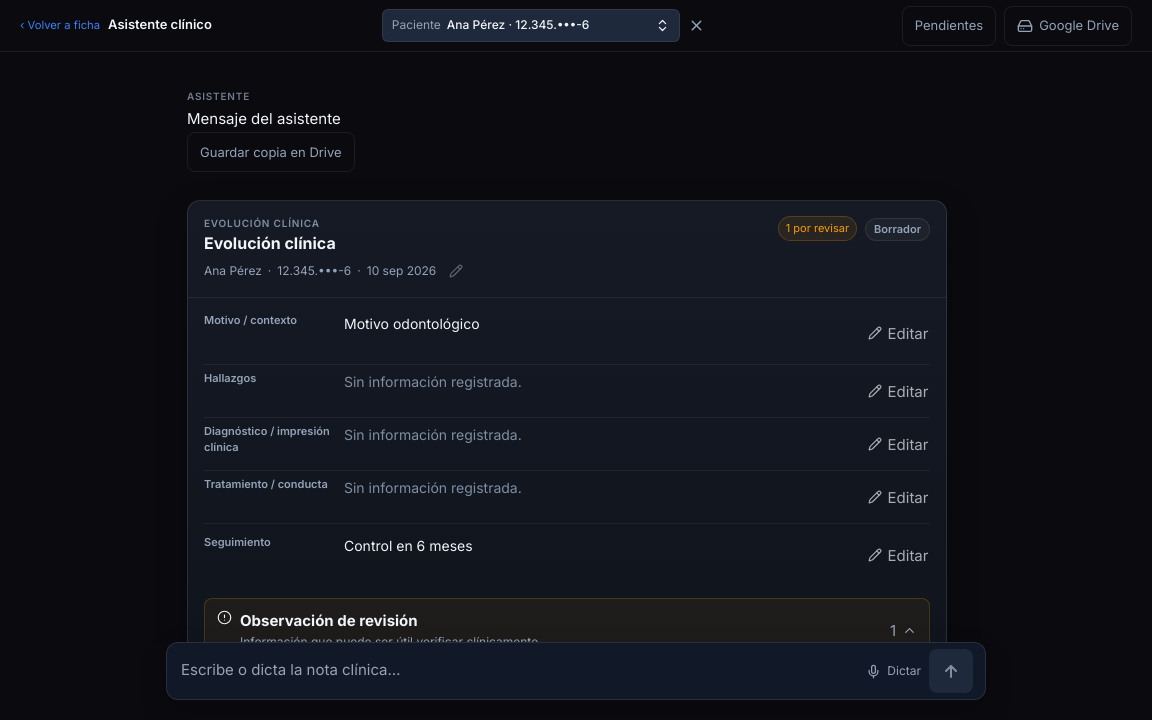
Test: Clinical Assistant Drive transfer › opens a local Markdown draft from an assistant message without any write
The width and height of the screenshot is (1152, 720).
Click the button with aria-label "Abrir Google Drive" at [1068, 26], box left=1004, top=6, right=1132, bottom=46
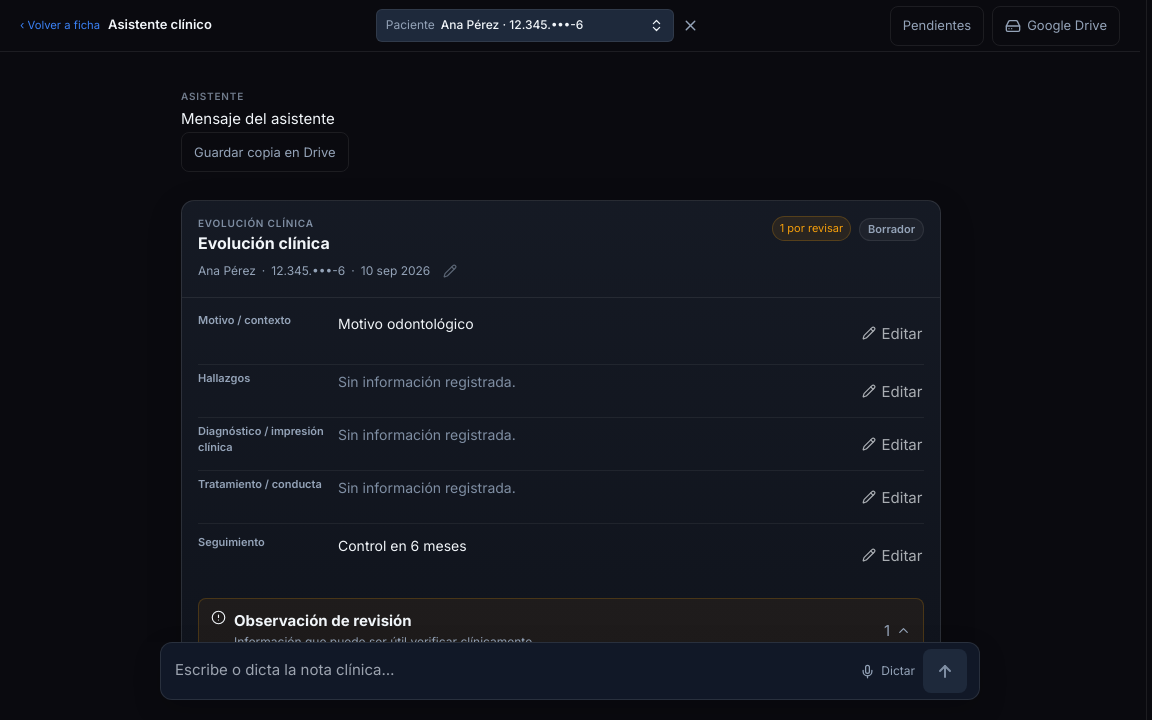
Click the button "Guardar copia en Drive" at [265, 152], box left=181, top=132, right=349, bottom=172
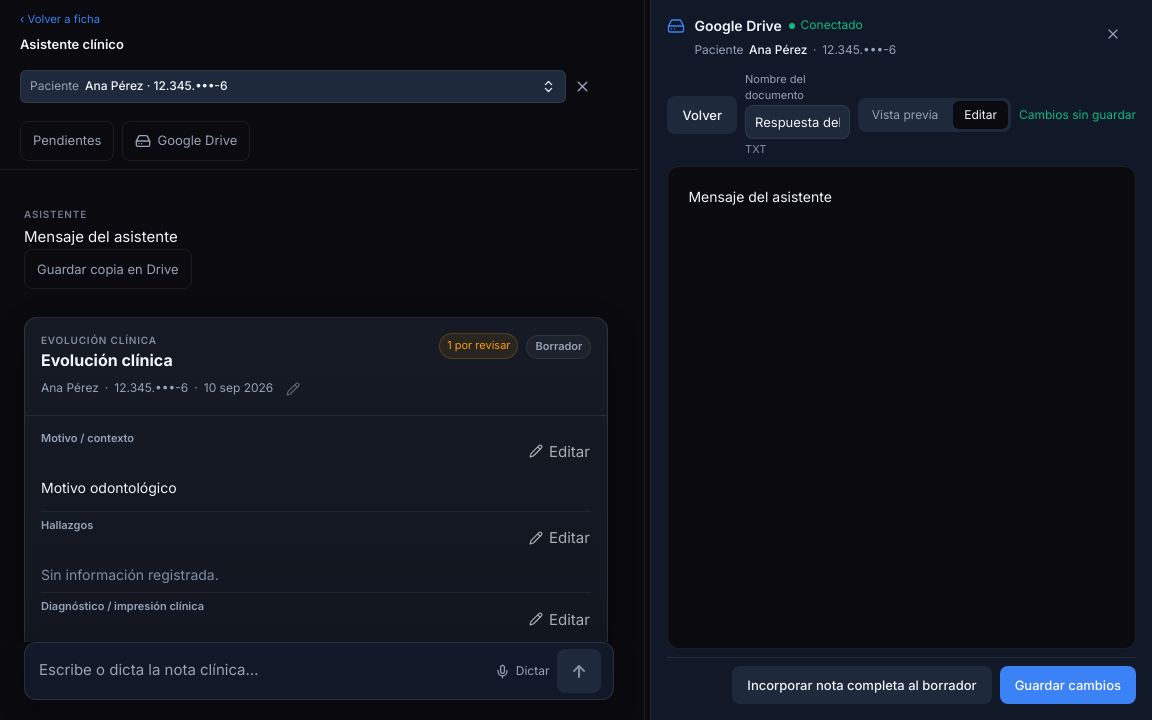
Expected: the text box named "Contenido del documento" holds "Mensaje del asistente", left=668, top=167, right=1135, bottom=367
